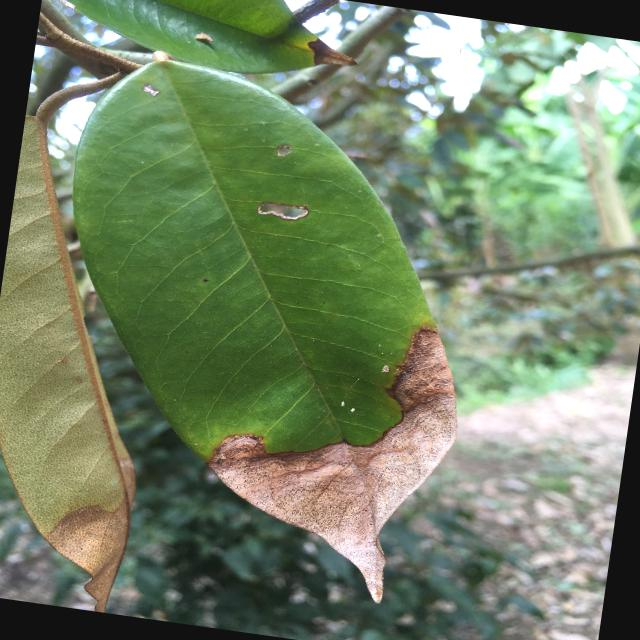Leaf Blight: (4, 30, 514, 622)
